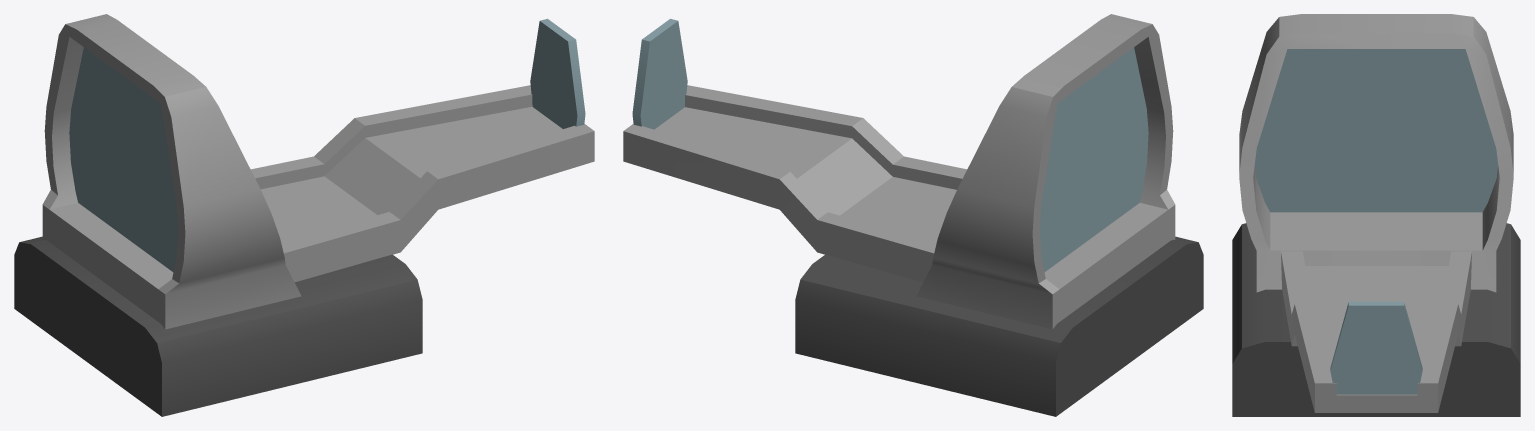
The model's file is Sight_1.glb.
3 renders of one model, left to right at view 1: azimuth 30°, elevation 25°; view 2: azimuth 150°, elevation 25°; view 3: azimuth 270°, elevation 25°, orthographic. The views are drawn at different scales.
Parts seen in each view (by area): view 1: Sight_1; view 2: Sight_1; view 3: Sight_1.
Boxes of the visible parts, x1,y1,x2,y2 form: Sight_1: (14,14,594,416); Sight_1: (623,14,1203,416); Sight_1: (1232,14,1520,416).
Bounding box in the file's own units: 0.1819 × 0.1093 × 0.098.
